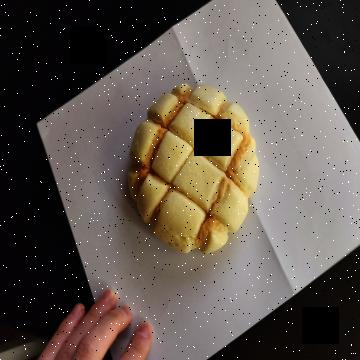melon_bread: (127, 82, 259, 256)
